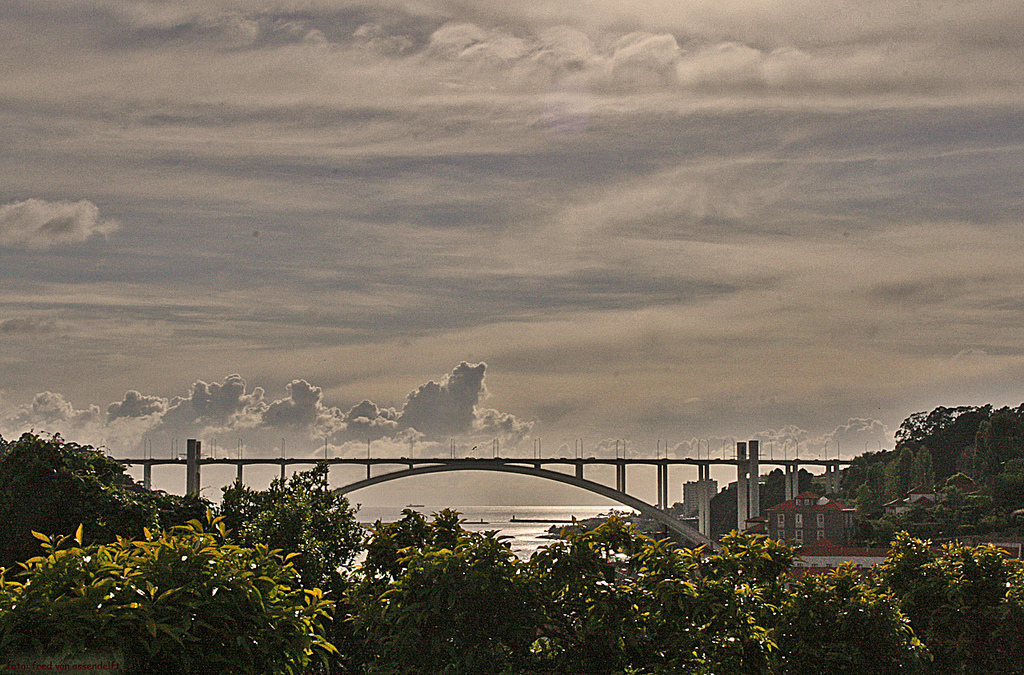arrabida: (92, 435, 862, 552)
